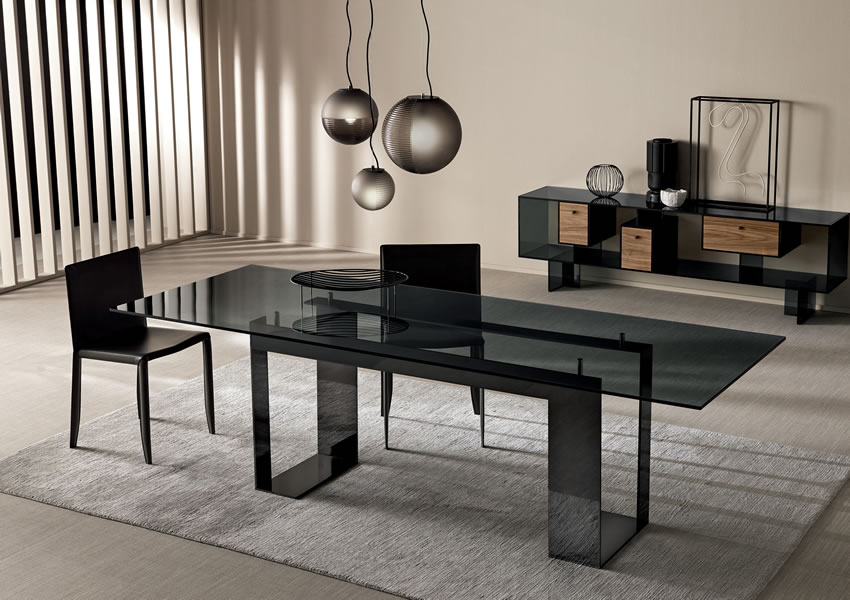chair: (58, 240, 226, 469), (376, 240, 492, 422)
table: (104, 260, 794, 579)
